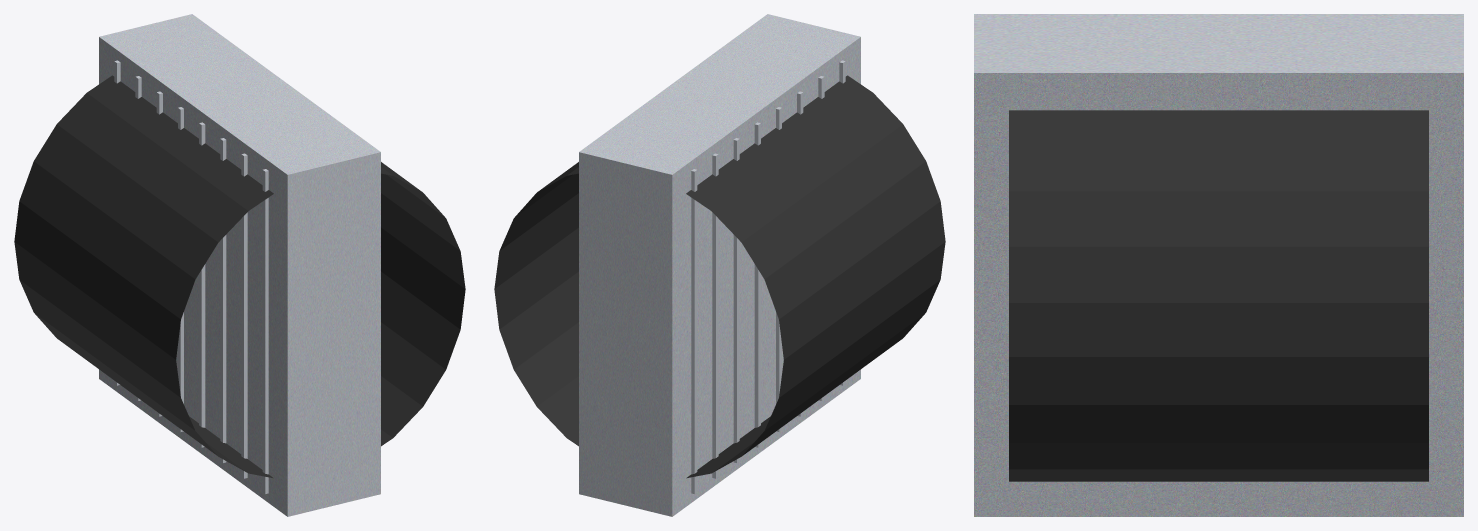
File: tunnel_fan.obj
3 renders of one model, left to right at view 1: azimuth 30°, elevation 25°; view 2: azimuth 150°, elevation 25°; view 3: azimuth 270°, elevation 25°, orthographic. The views are drawn at different scales.
Bounding box in the file's own units: 1.24 × 1.4 × 1.4.
Materials: 5 (1 with a texture image).
